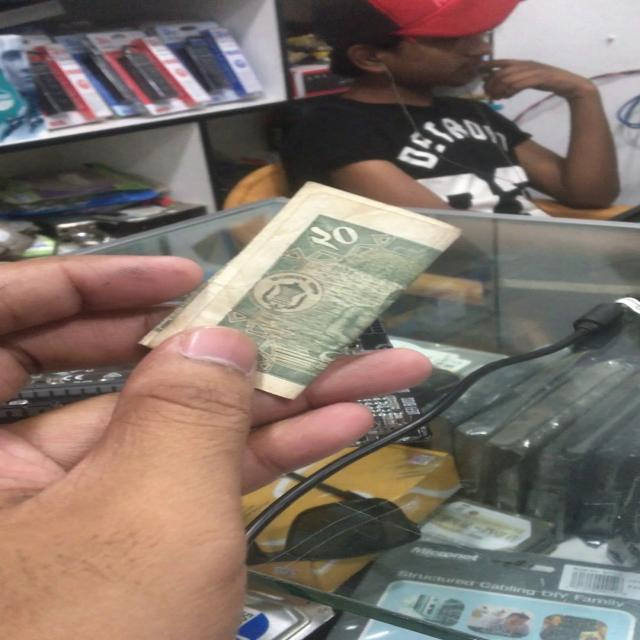Taka: (148, 192, 467, 383)
